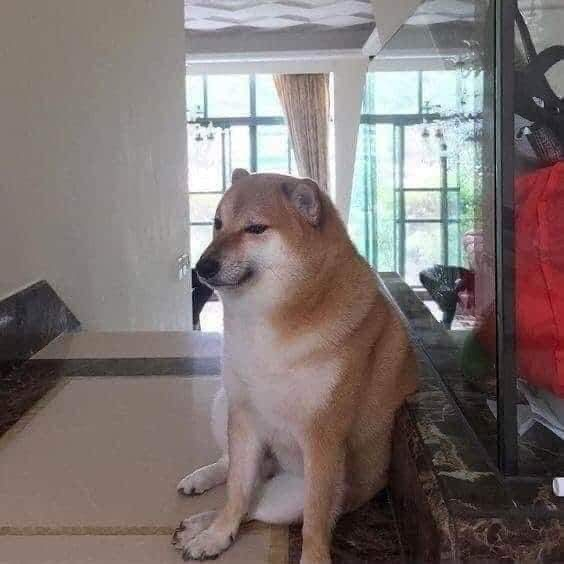dog: (173, 168, 418, 564)
